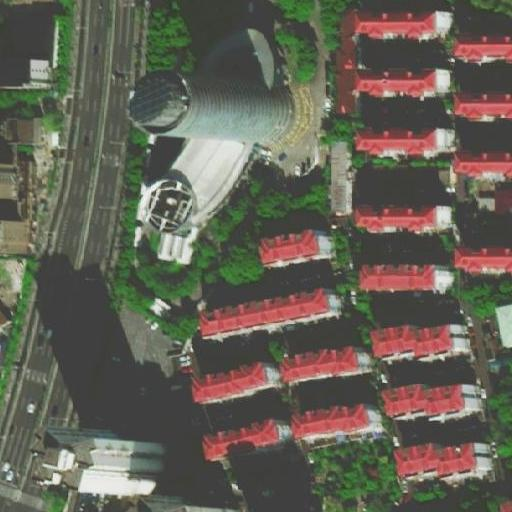building: (145, 138, 268, 268), (208, 289, 336, 339), (101, 437, 168, 507), (226, 80, 292, 149), (192, 357, 275, 406), (204, 416, 286, 462), (399, 443, 491, 483), (295, 399, 378, 439), (391, 385, 482, 421), (281, 349, 372, 381), (389, 324, 469, 357), (262, 230, 334, 266), (358, 11, 452, 38), (355, 131, 450, 156), (358, 265, 454, 289), (357, 70, 449, 95), (335, 8, 356, 113), (369, 209, 450, 233), (331, 138, 354, 214), (370, 167, 448, 189), (44, 1, 70, 59), (0, 213, 28, 265), (2, 62, 49, 91), (464, 98, 509, 125), (461, 249, 511, 273), (485, 302, 512, 342), (458, 154, 511, 174), (456, 43, 511, 61), (8, 122, 41, 149), (475, 194, 503, 219), (147, 292, 172, 316), (487, 491, 512, 511), (0, 296, 13, 327)
